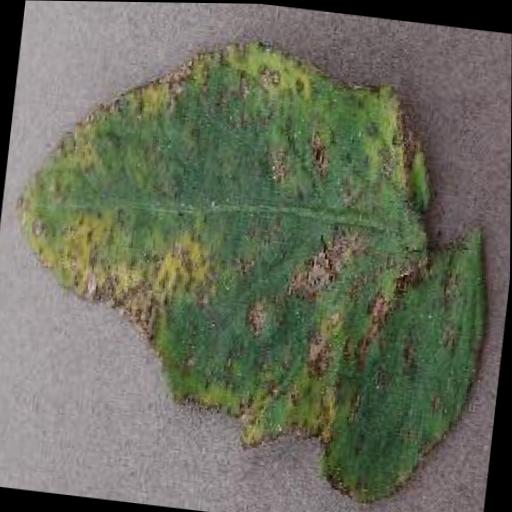Bacterial Spot: (0, 13, 512, 512)
